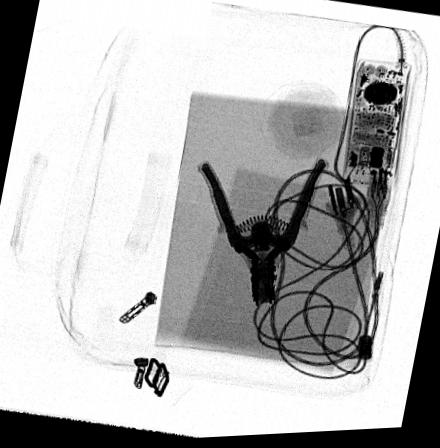Pliers: (198, 161, 328, 312)
